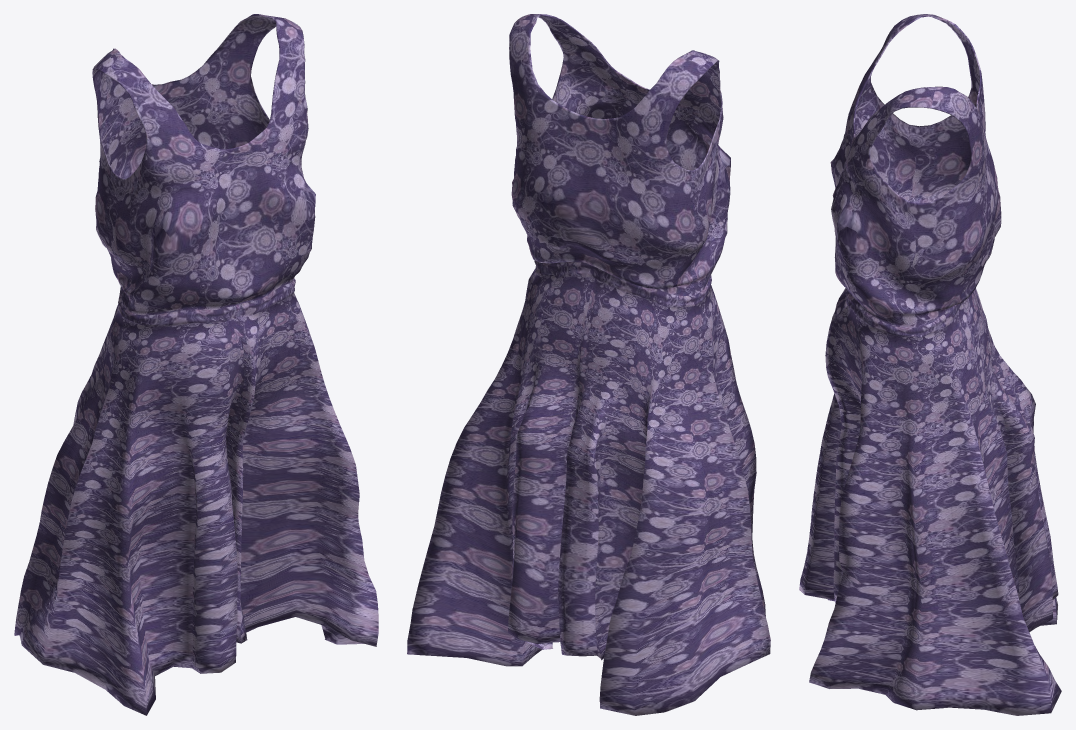
Rendered from dress_full_skirt.gltf.
3 views of the same model, side by side, from view 1: azimuth 30°, elevation 25°; view 2: azimuth 150°, elevation 25°; view 3: azimuth 270°, elevation 25° (orthographic). The views are drawn at different scales.
Visible parts, largest first — view 1: dress_full_skirt; view 2: dress_full_skirt; view 3: dress_full_skirt.
Part boxes in pixels (box(x1,y1,x2,y2)): dress_full_skirt: box(14, 14, 378, 715); dress_full_skirt: box(407, 14, 770, 715); dress_full_skirt: box(799, 14, 1061, 715).
Size of the model in its own units: 0.6045 by 1.13 by 0.4481.
Materials: 1 (1 with a texture image).
